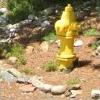a fire hydrant: (53, 3, 84, 69)
